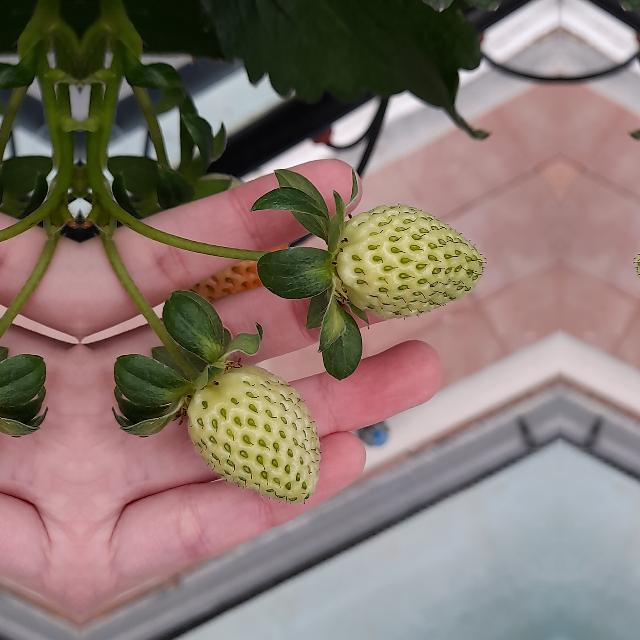Health_25: (182, 369, 322, 517), (334, 204, 484, 318)
